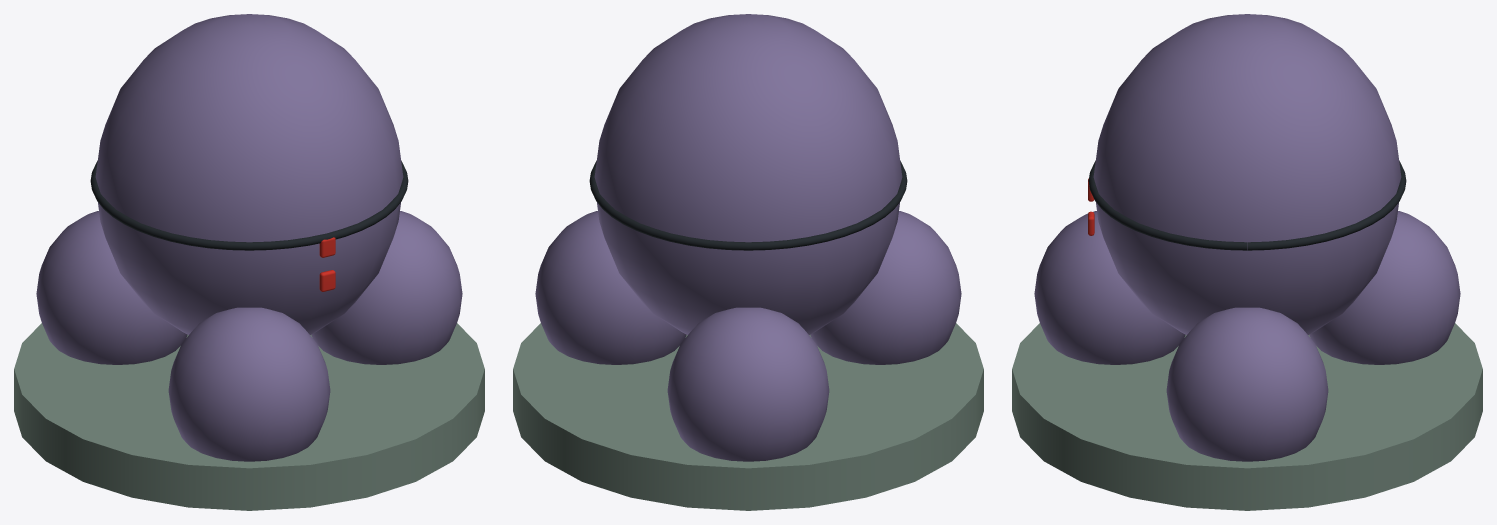
3 renders of one model, left to right at view 1: azimuth 30°, elevation 25°; view 2: azimuth 150°, elevation 25°; view 3: azimuth 270°, elevation 25°, orthographic.
Visible parts, largest first — view 1: Central segmented field orb, Foundation drum, Peripheral field orb.002, Peripheral field orb, Peripheral field orb.001, Field orb equator seam; view 2: Central segmented field orb, Foundation drum, Peripheral field orb.001, Peripheral field orb, Peripheral field orb.002, Field orb equator seam; view 3: Central segmented field orb, Foundation drum, Peripheral field orb, Peripheral field orb.001, Peripheral field orb.002, Field orb equator seam.
Part boxes in pixels (x1=…): Central segmented field orb: x1=95, y1=14, x2=403, y2=334; Foundation drum: x1=14, y1=323, x2=484, y2=510; Peripheral field orb.002: x1=168, y1=307, x2=330, y2=461; Peripheral field orb: x1=311, y1=211, x2=462, y2=364; Peripheral field orb.001: x1=36, y1=211, x2=187, y2=364; Field orb equator seam: x1=90, y1=161, x2=408, y2=250; Central segmented field orb: x1=594, y1=14, x2=902, y2=334; Foundation drum: x1=513, y1=323, x2=983, y2=510; Peripheral field orb.001: x1=667, y1=307, x2=829, y2=461; Peripheral field orb: x1=535, y1=211, x2=686, y2=364; Peripheral field orb.002: x1=810, y1=211, x2=961, y2=364; Field orb equator seam: x1=589, y1=161, x2=907, y2=250; Central segmented field orb: x1=1093, y1=14, x2=1401, y2=334; Foundation drum: x1=1012, y1=323, x2=1482, y2=510; Peripheral field orb: x1=1166, y1=307, x2=1328, y2=461; Peripheral field orb.001: x1=1309, y1=211, x2=1460, y2=364; Peripheral field orb.002: x1=1034, y1=211, x2=1185, y2=364; Field orb equator seam: x1=1088, y1=161, x2=1406, y2=250.
Size of the model in its own units: 2.5 by 2.26 by 2.5.
